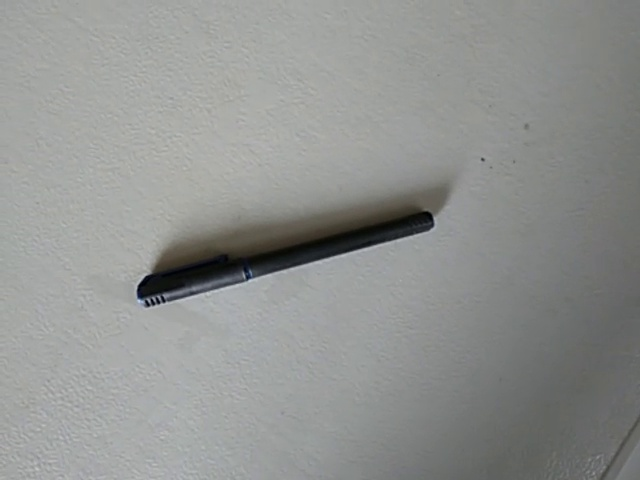Pen: (111, 204, 476, 342)
